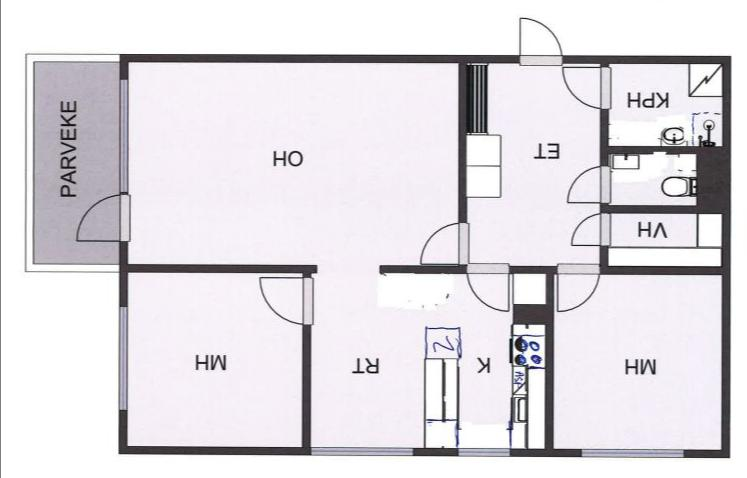door: (76, 191, 134, 244), (254, 276, 314, 326), (416, 221, 475, 266), (514, 15, 562, 69), (560, 63, 614, 111), (553, 264, 602, 313), (464, 266, 511, 314), (564, 164, 612, 205), (567, 210, 612, 246)
window: (573, 444, 688, 461), (115, 302, 131, 415), (306, 443, 420, 458), (116, 74, 130, 194), (452, 444, 514, 460)
